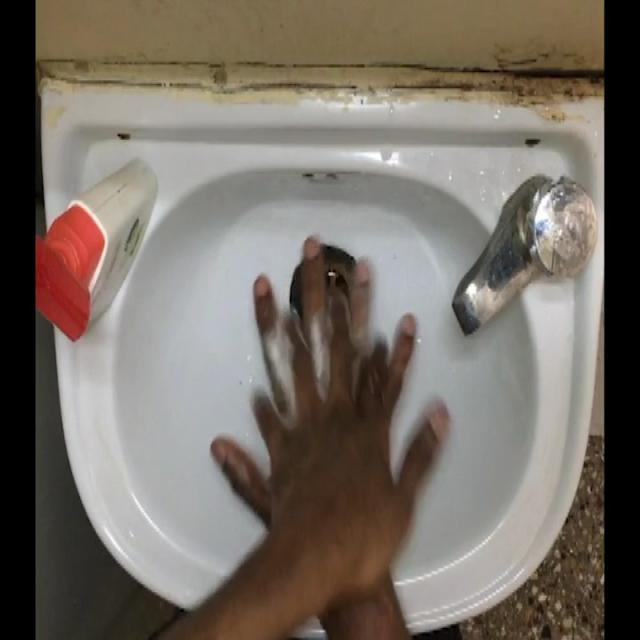step_2: (204, 225, 449, 557)
